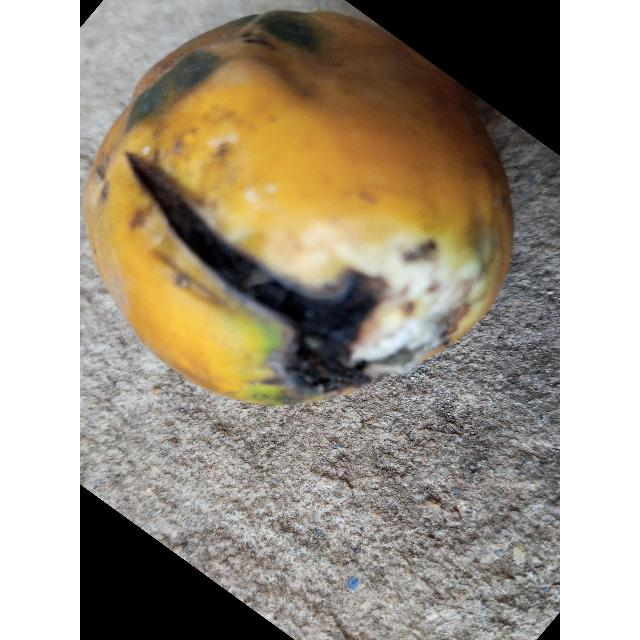damaged: (82, 9, 515, 408)
